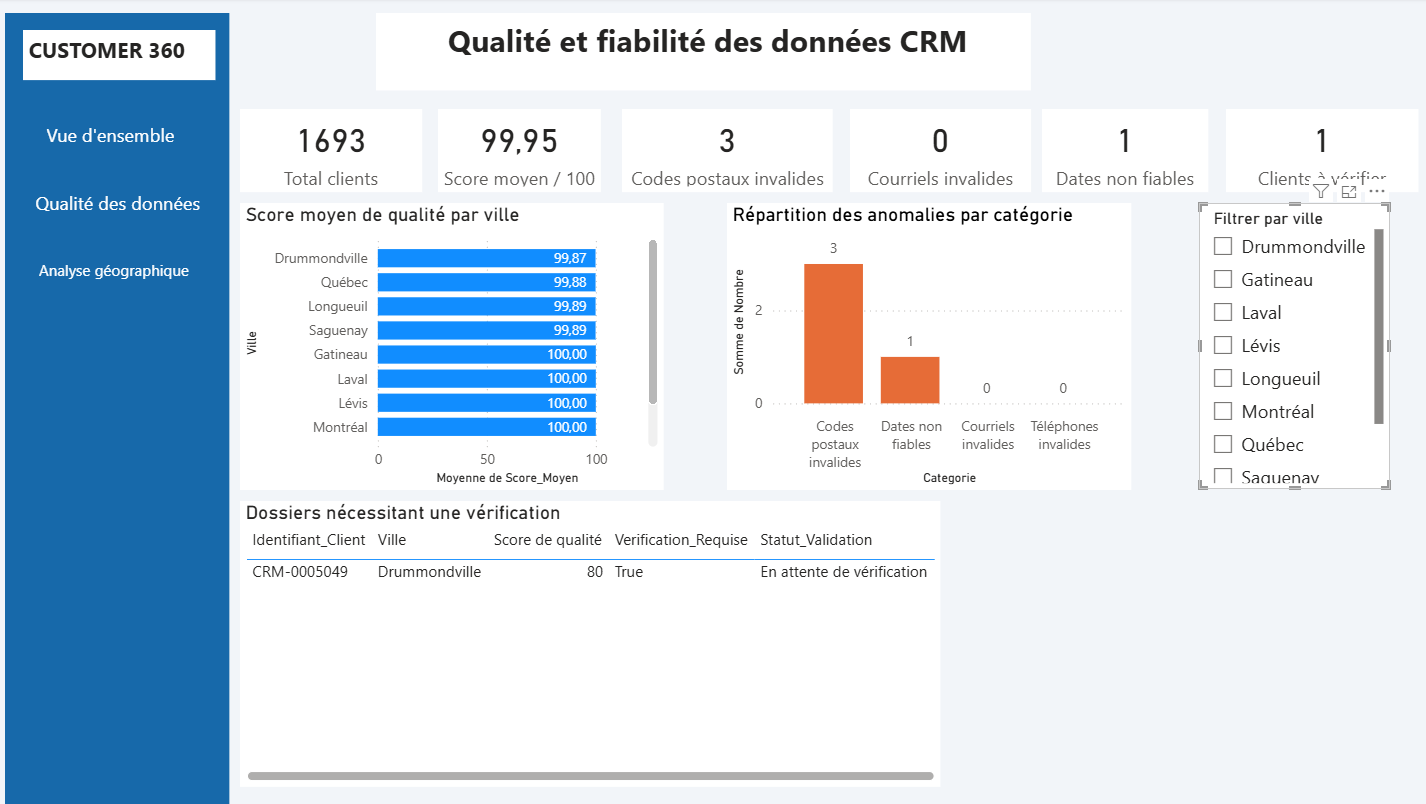

Layout of this report page (visuals, bound fields, positions):
{"tool":"powerbi","page":{"name":"Qualité et fiabilité des données CRM","canvas":[1280,720],"ordinal":1},"visuals":[{"type":"shape","box":[18.4,12.8,197,707.2],"z":0},{"type":"textbox","box":[34,28.3,168.7,43.9],"z":1000},{"type":"actionButton","box":[28.3,80.8,165.8,79.4],"z":2000},{"type":"actionButton","box":[32.6,160.2,170.1,39.7],"z":3000},{"type":"textbox","box":[344.4,12.8,575.4,68],"z":4000},{"type":"card","fields":{"Values":["Sum(vw_Customer360_Qualite.Total_Golden_Records)"]},"box":[224.8,97.5,159.8,72.9],"z":5000},{"type":"card","fields":{"Values":["Sum(vw_Customer360_Qualite.Score_Moyen)"]},"box":[398.6,97.5,143.1,72.9],"z":6000},{"type":"card","fields":{"Values":["Sum(vw_Customer360_Qualite.Codes_Postaux_Invalides)"]},"box":[560.2,97.5,185.3,72.9],"z":7000},{"type":"card","fields":{"Values":["Sum(vw_Customer360_Qualite.Emails_Invalides)"]},"box":[760.4,97.5,158.9,72.9],"z":8000},{"type":"card","fields":{"Values":["Sum(vw_Customer360_Qualite.Dates_Non_Fiables)"]},"box":[929,97.5,145.8,72.9],"z":9000},{"type":"card","fields":{"Values":["Sum(vw_Customer360_Qualite.Fiches_A_Verifier)"]},"box":[1090.5,97.5,168.6,72.9],"z":10000},{"type":"clusteredBarChart","title":"Score moyen de qualité par ville","fields":{"Y":["Avg(vw_Customer360_Qualite_Villes.Score_Moyen)"],"Category":["vw_Customer360_Qualite_Villes.Ville"]},"box":[224.7,179.9,371.6,251.9],"z":11000},{"type":"clusteredColumnChart","title":"Répartition des anomalies par catégorie","fields":{"Category":["Categories_Anomalies.Categorie"],"Y":["Sum(Categories_Anomalies.Nombre)"]},"box":[652.6,179.9,355,251.9],"z":12000},{"type":"tableEx","title":"Dossiers nécessitant une vérification","fields":{"Values":["vw_Customer360_Clients.Identifiant_Client","vw_Customer360_Clients.Ville","Sum(vw_Customer360_Clients.Score_Qualite)","vw_Customer360_Clients.Verification_Requise","vw_Customer360_Clients.Statut_Validation"]},"box":[224.7,441.6,614.7,250.9],"z":13000},{"type":"slicer","fields":{"Values":["vw_Customer360_Clients.Ville"]},"box":[1067,179.9,167.3,250.9],"z":14000},{"type":"actionButton","box":[34.2,217.8,159.8,40.4],"z":14001}]}

Visuals, with their boxes on the page's 1280x720 design canvas (x1, y1, x2, y2). These are canvas units, not pixel positions in the 1426x804 screenshot, which may show the page scaled, cropped or inside an application window:
shape: crop(18, 13, 215, 720)
textbox: crop(34, 28, 203, 72)
actionButton: crop(28, 81, 194, 160)
actionButton: crop(33, 160, 203, 200)
textbox: crop(344, 13, 920, 81)
card - Sum(vw_Customer360_Qualite.Total_Golden_Records): crop(225, 98, 385, 170)
card - Sum(vw_Customer360_Qualite.Score_Moyen): crop(399, 98, 542, 170)
card - Sum(vw_Customer360_Qualite.Codes_Postaux_Invalides): crop(560, 98, 746, 170)
card - Sum(vw_Customer360_Qualite.Emails_Invalides): crop(760, 98, 919, 170)
card - Sum(vw_Customer360_Qualite.Dates_Non_Fiables): crop(929, 98, 1075, 170)
card - Sum(vw_Customer360_Qualite.Fiches_A_Verifier): crop(1090, 98, 1259, 170)
"Score moyen de qualité par ville" clusteredBarChart: crop(225, 180, 596, 432)
"Répartition des anomalies par catégorie" clusteredColumnChart: crop(653, 180, 1008, 432)
"Dossiers nécessitant une vérification" tableEx: crop(225, 442, 839, 692)
slicer - vw_Customer360_Clients.Ville: crop(1067, 180, 1234, 431)
actionButton: crop(34, 218, 194, 258)
